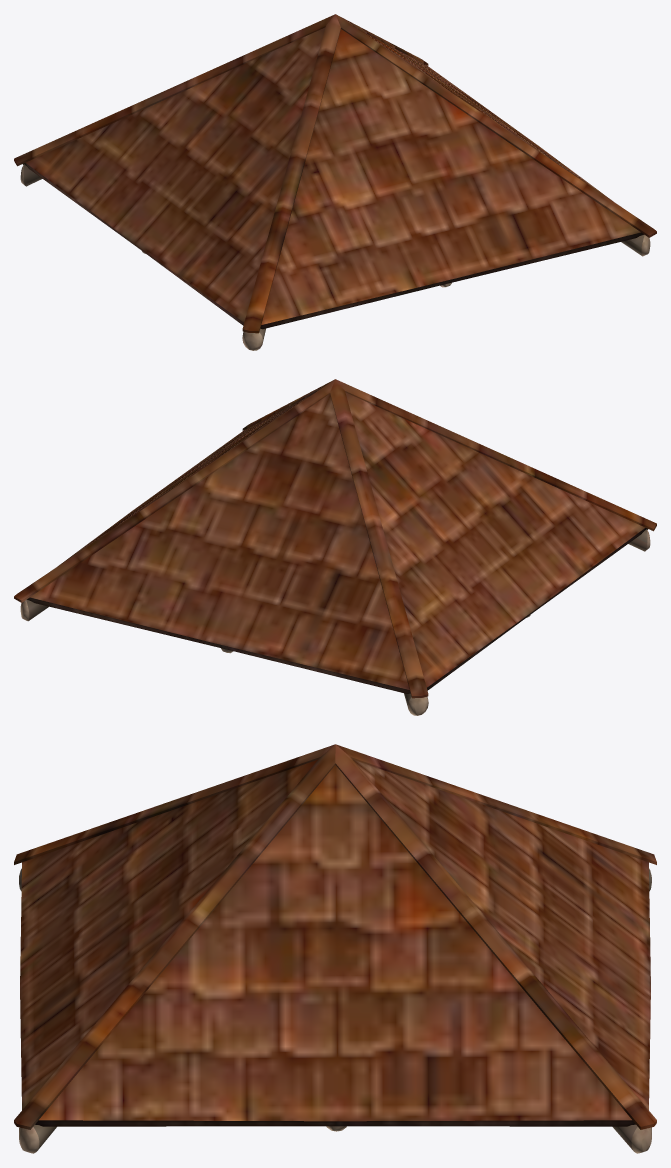
The model's file is SM_PyramidRoof_Wood_4d3666.glb.
The picture shows the model from 3 angles, top to bottom: view 1: azimuth 30°, elevation 25°; view 2: azimuth 150°, elevation 25°; view 3: azimuth 270°, elevation 25°; orthographic projection. The views are drawn at different scales.
Size of the model in its own units: 4.46 by 2.14 by 4.46.
1 material, 1 textured.
